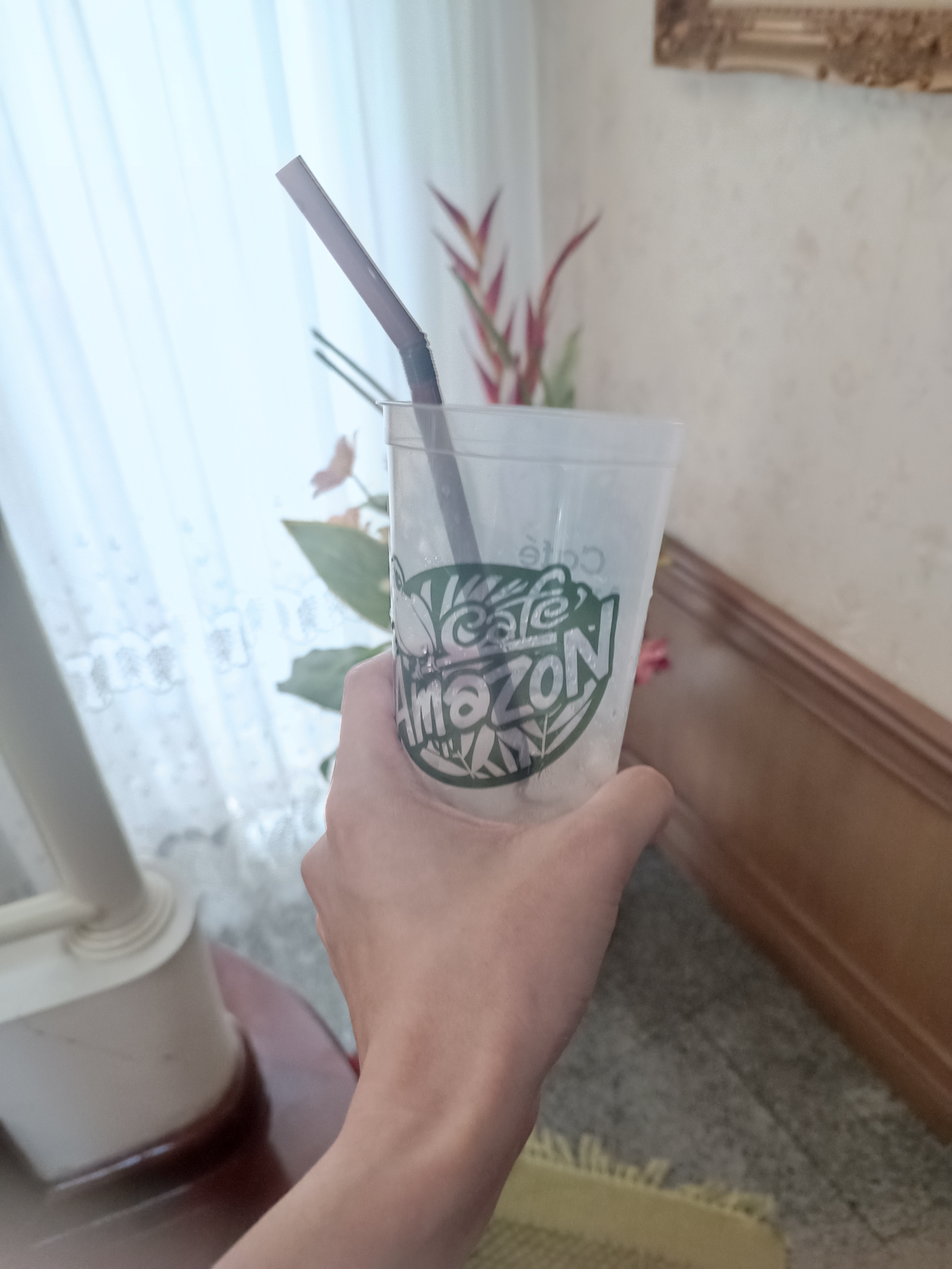plastic: (243, 133, 711, 941)
